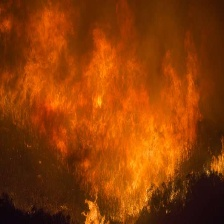fire: (4, 3, 201, 224), (207, 135, 224, 179)
